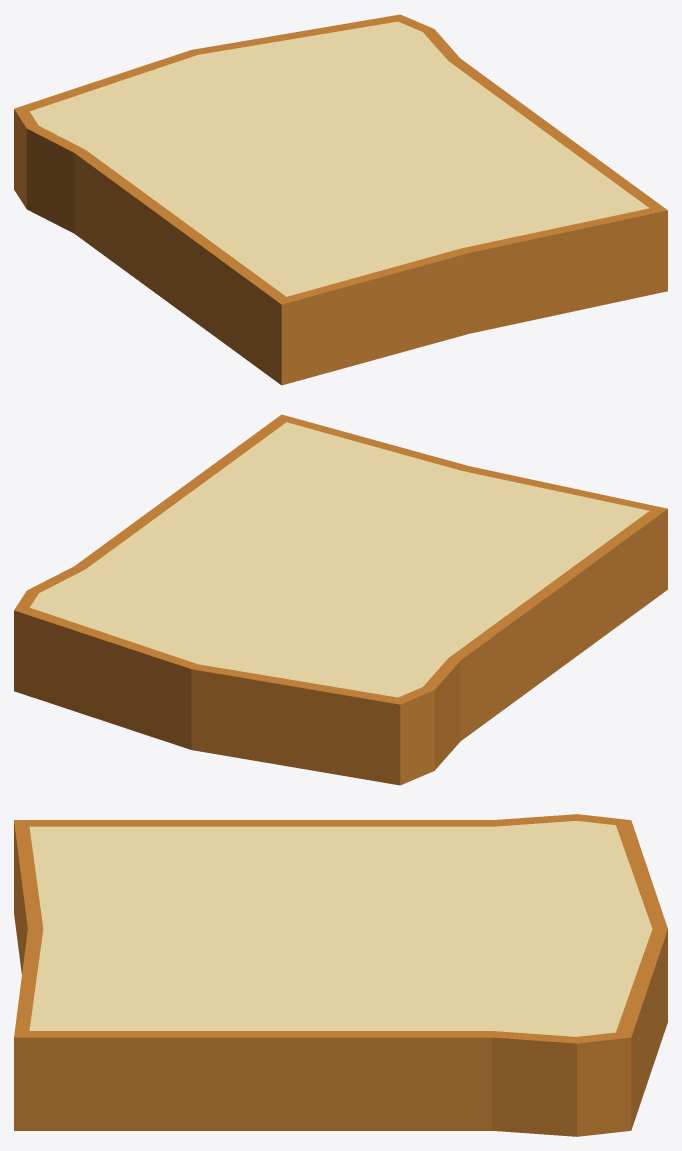
The model's file is Sliced_Bread.fbx.
3 renders of one model, top to bottom at view 1: azimuth 30°, elevation 25°; view 2: azimuth 150°, elevation 25°; view 3: azimuth 270°, elevation 25°, orthographic. The views are drawn at different scales.
Visible parts, largest first — view 1: Cube.016; view 2: Cube.016; view 3: Cube.016.
Boxes of the visible parts, x1=… form: Cube.016: x1=14, y1=14, x2=667, y2=385; Cube.016: x1=14, y1=414, x2=667, y2=785; Cube.016: x1=14, y1=814, x2=667, y2=1136.
Bounding box in the file's own units: 10.55 × 2 × 12.71.
